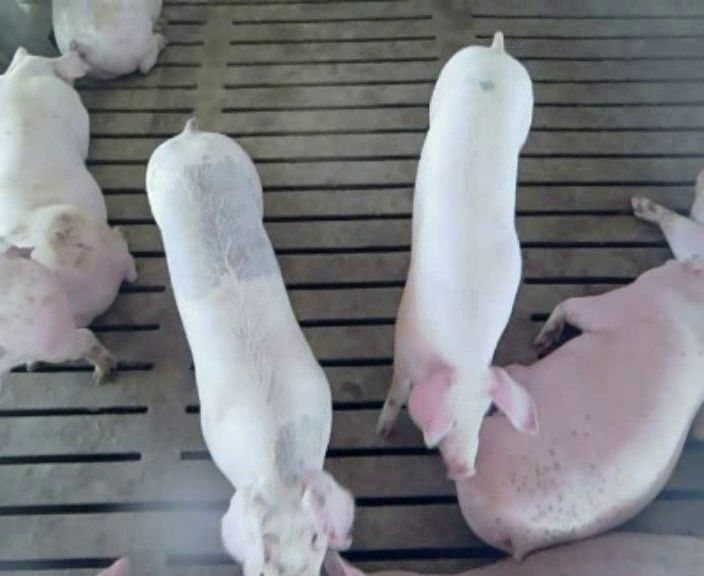pig: (146, 119, 353, 574), (456, 254, 703, 556), (378, 33, 537, 479), (0, 49, 135, 326), (53, 2, 164, 78)
